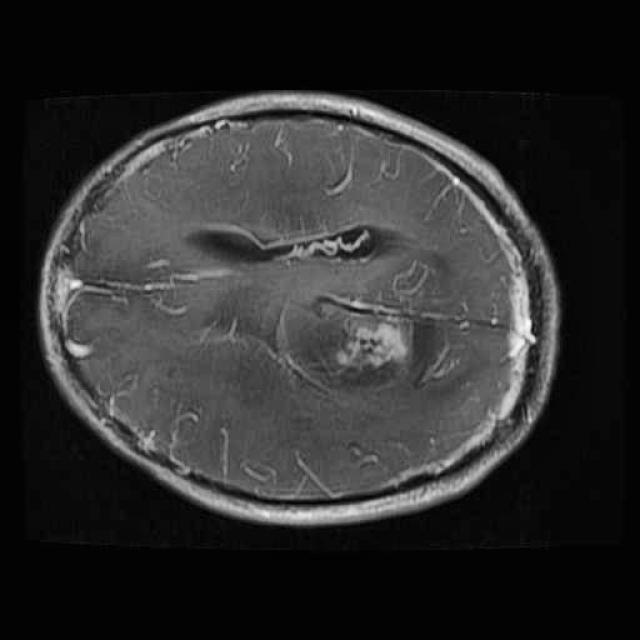Non-Tumor: (280, 276, 475, 409)
